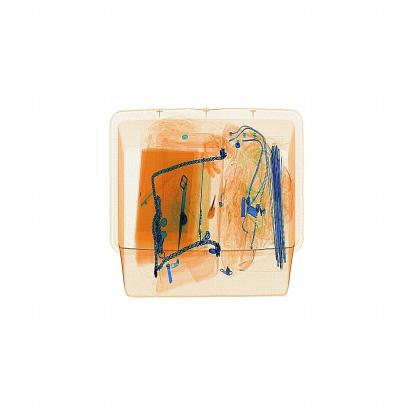wrench: (209, 192, 222, 228)
